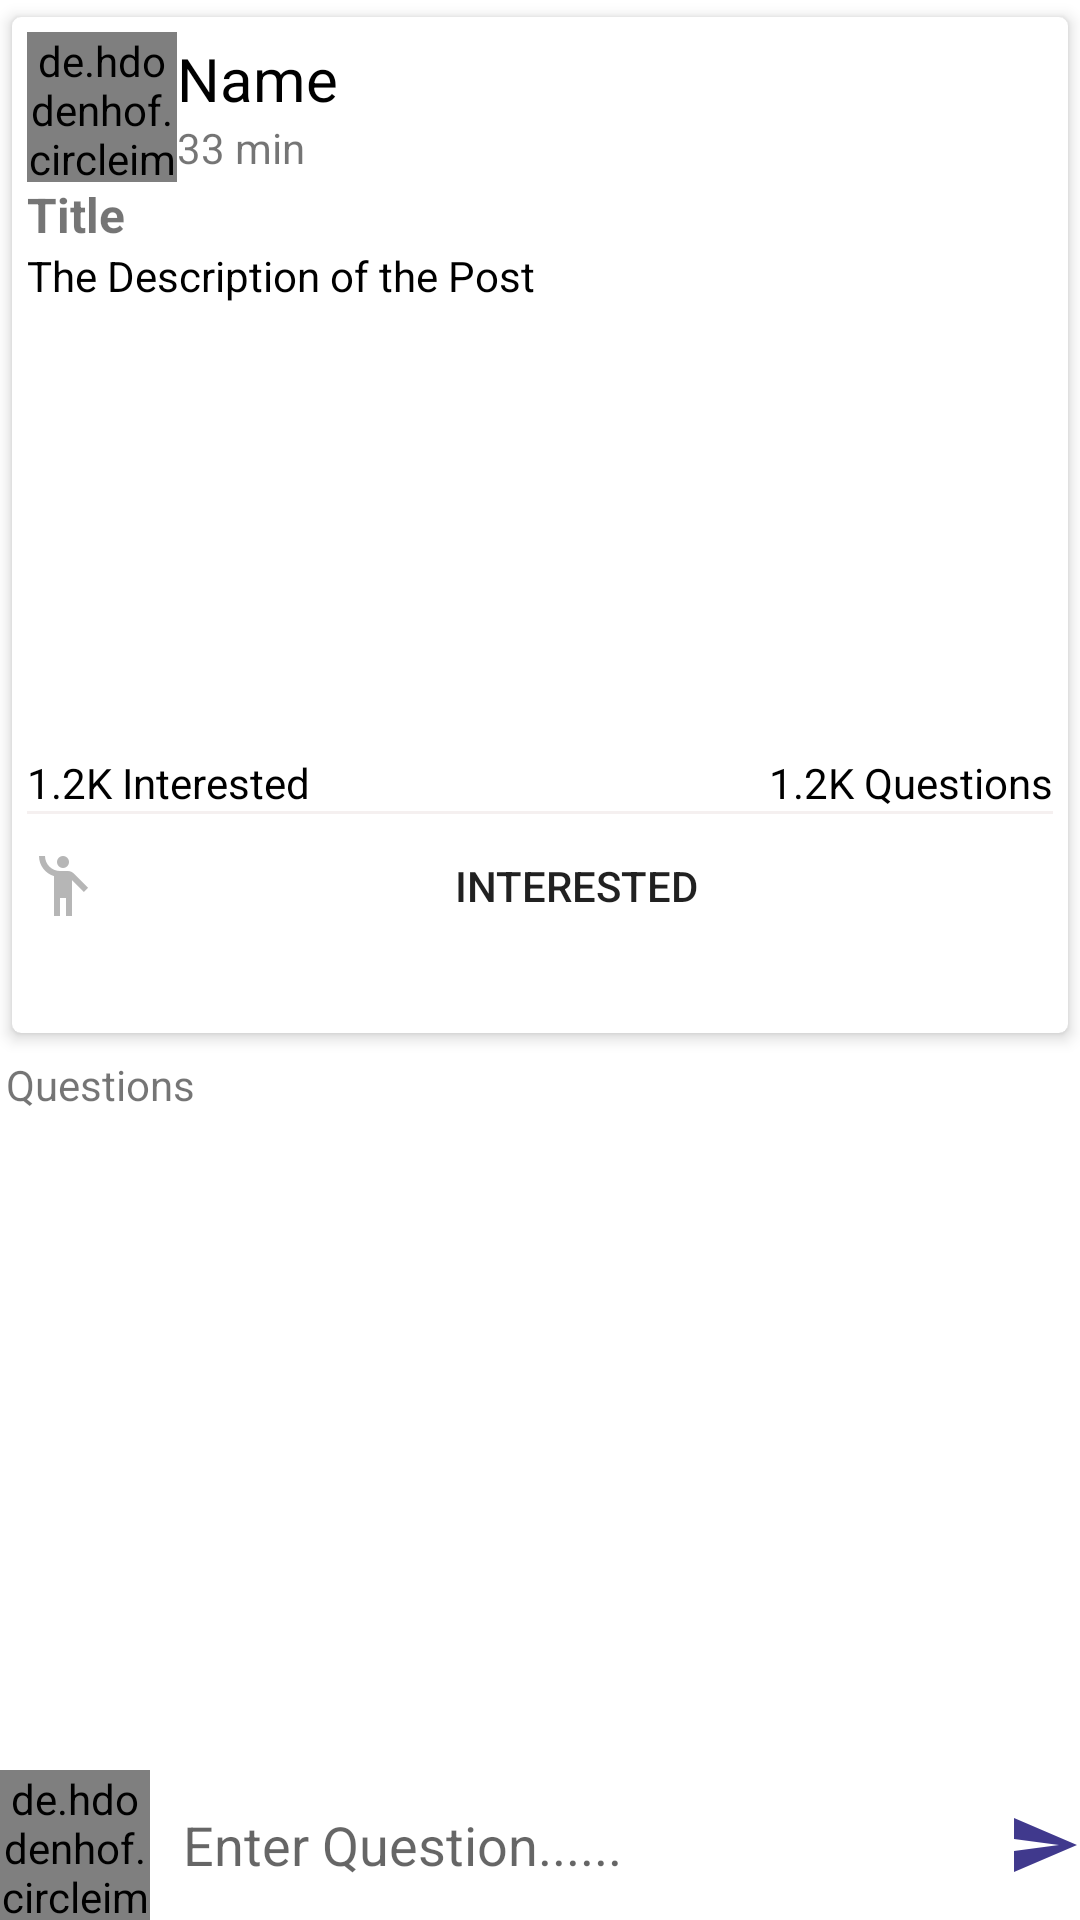

Screen size 1080*1920. Icon name, then its box in pixels as (left=x1, top=y1, right=x2, bottom=y2):
send: (left=1014, top=1818, right=1077, bottom=1872)
